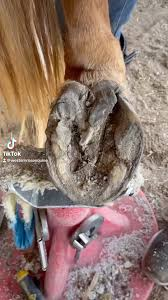horsesole: (45, 93, 144, 206)
